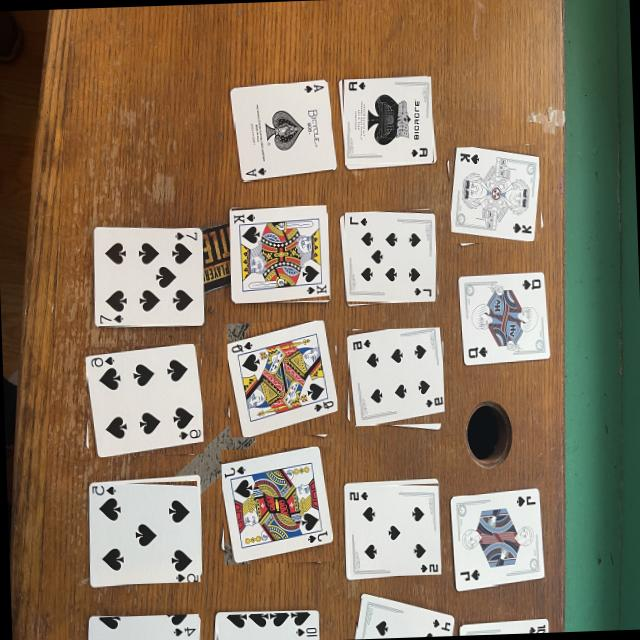10 of spades: (215, 611, 317, 640), (460, 620, 545, 634)
4 of spades: (356, 598, 450, 637), (89, 616, 197, 640)
5 of spades: (89, 484, 197, 584), (346, 486, 437, 577)
6 of spades: (85, 344, 202, 457), (347, 328, 442, 425)
7 of spades: (94, 231, 201, 324), (345, 213, 432, 301)
Ace of spades: (232, 82, 331, 181), (343, 77, 430, 163)
Jack of spades: (220, 447, 332, 563), (452, 493, 542, 586)
King of spades: (230, 206, 327, 303), (450, 147, 537, 241)
Queen of spades: (226, 321, 336, 437), (459, 274, 547, 361)
